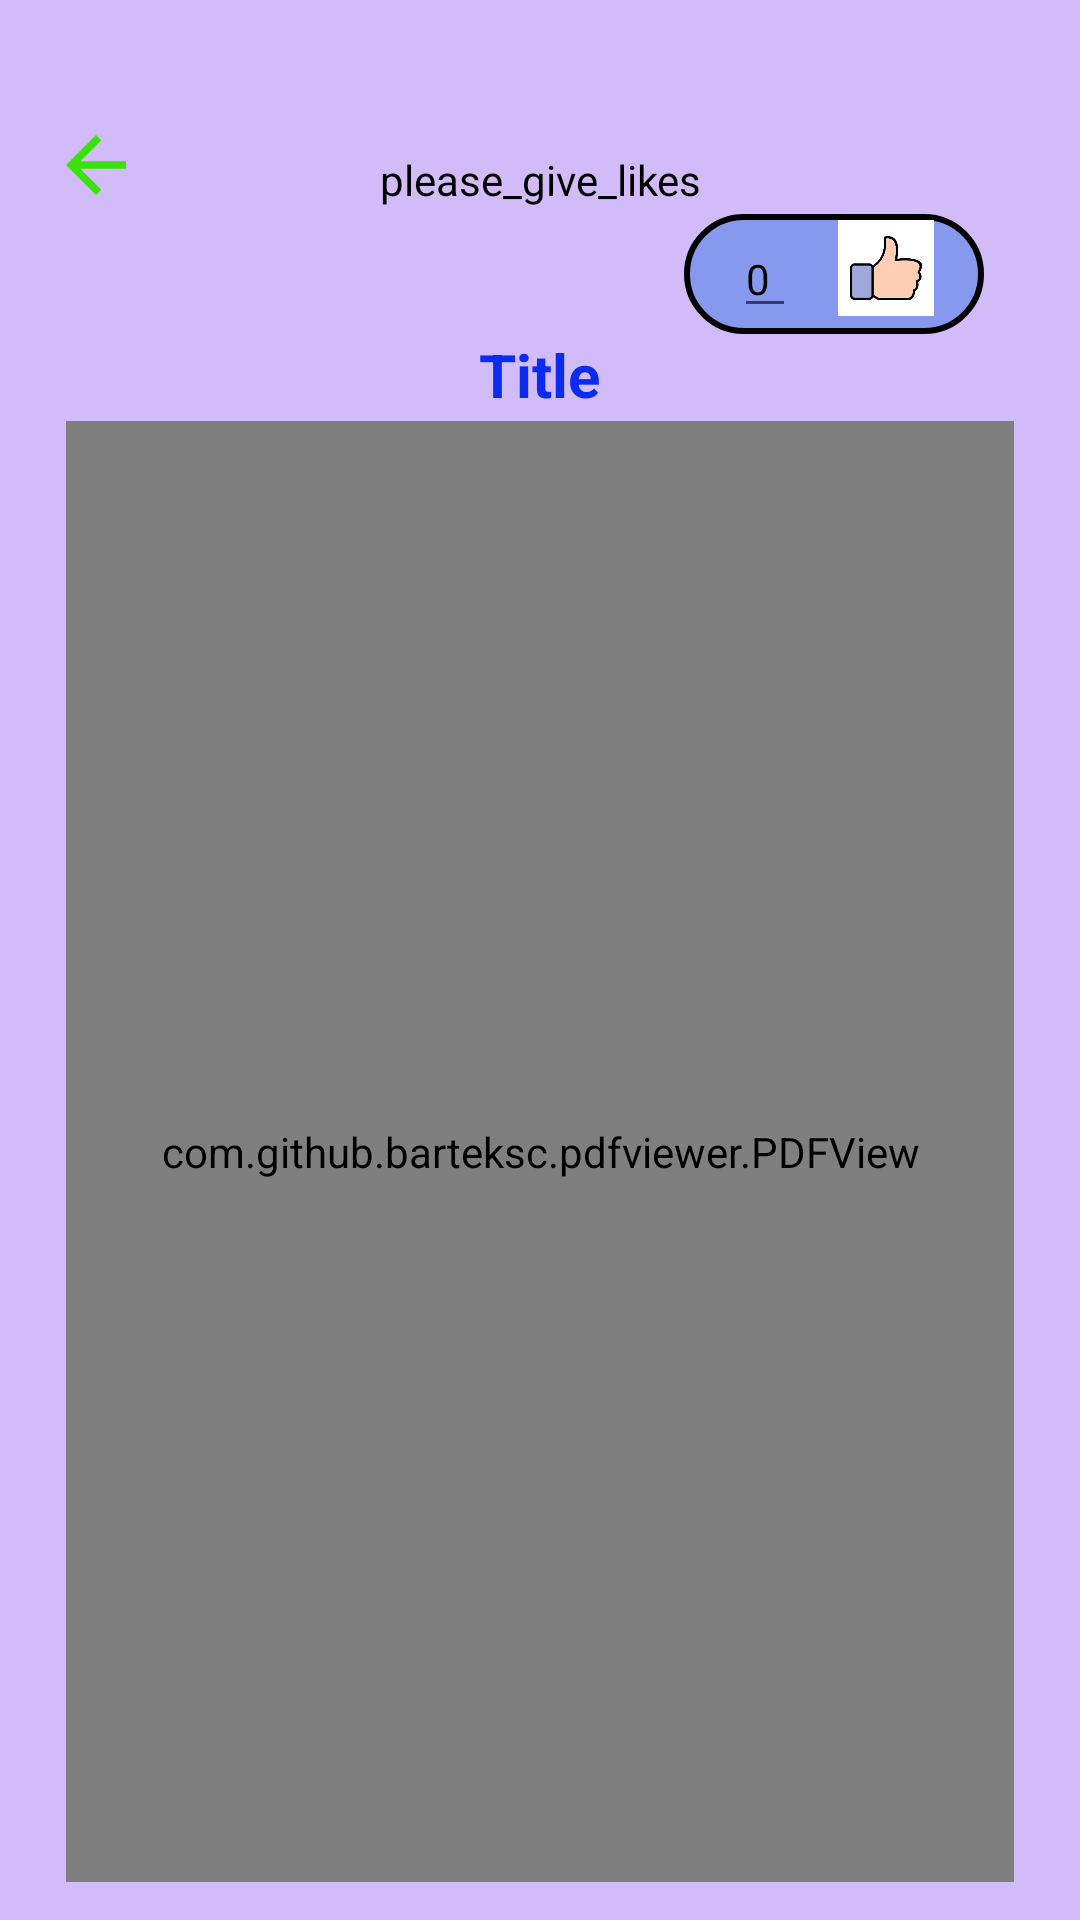

Locate icon controls on the screen. Image size 1080px x 1920px, boxes as BBox(x1, y1, x2, y2).
arrow back: BBox(66, 135, 126, 195)
